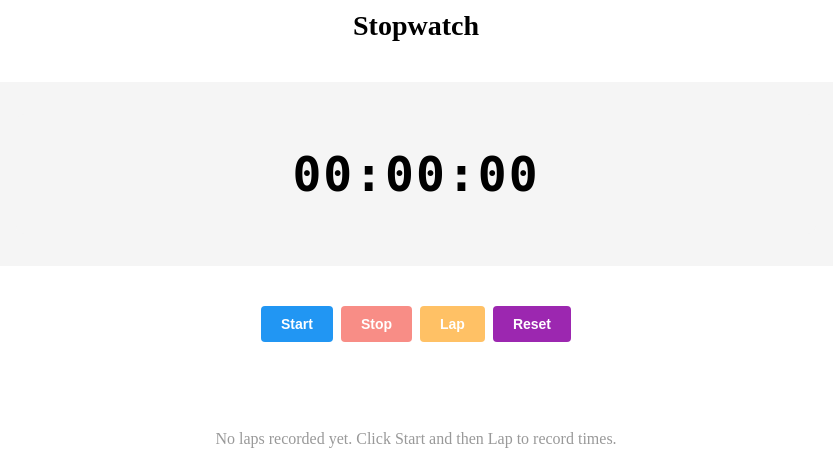
Test case: Stopwatch Container Component (T053, T090) › Start/Stop workflow › should stop stopwatch and freeze display
Click the button with test id "button-start" at {"x": 297, "y": 324}, box [261,306,333,342]
Wait 500 ms
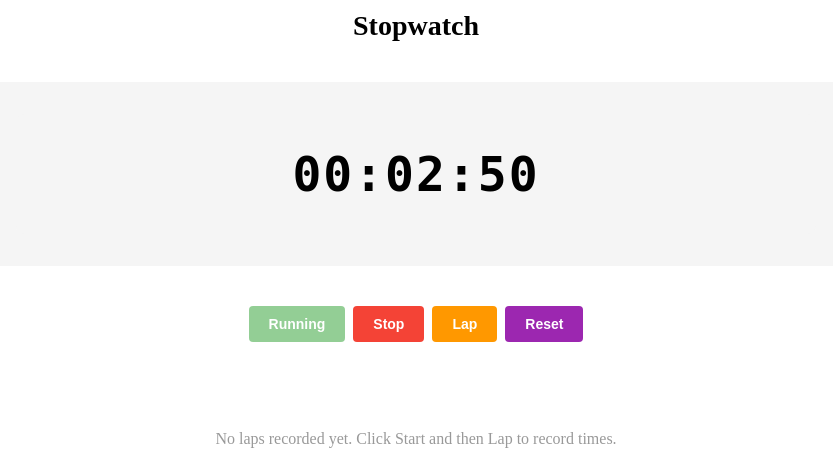
Now the message with test id "stopwatch-display" no longer shows "00:00:00"
Click the button with test id "button-stop" at {"x": 389, "y": 324}, box [353,306,424,342]
Wait 500 ms
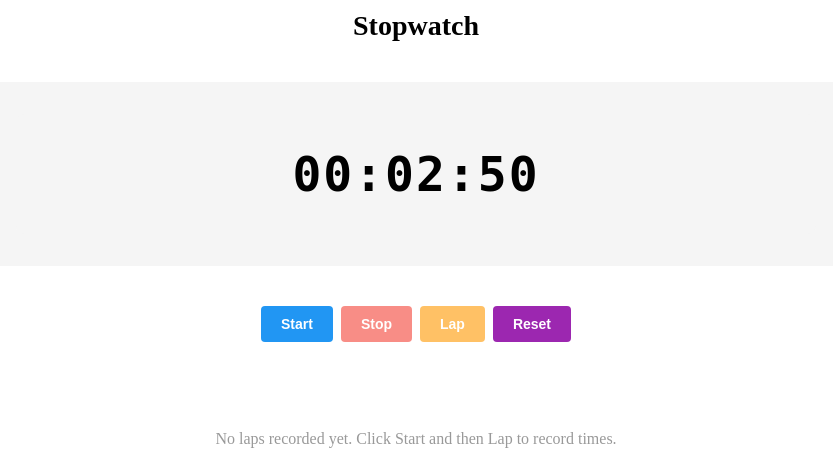
Now the button with test id "button-stop" is disabled, box [341,306,412,342]
